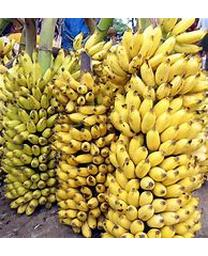banana: (3, 34, 207, 235)
